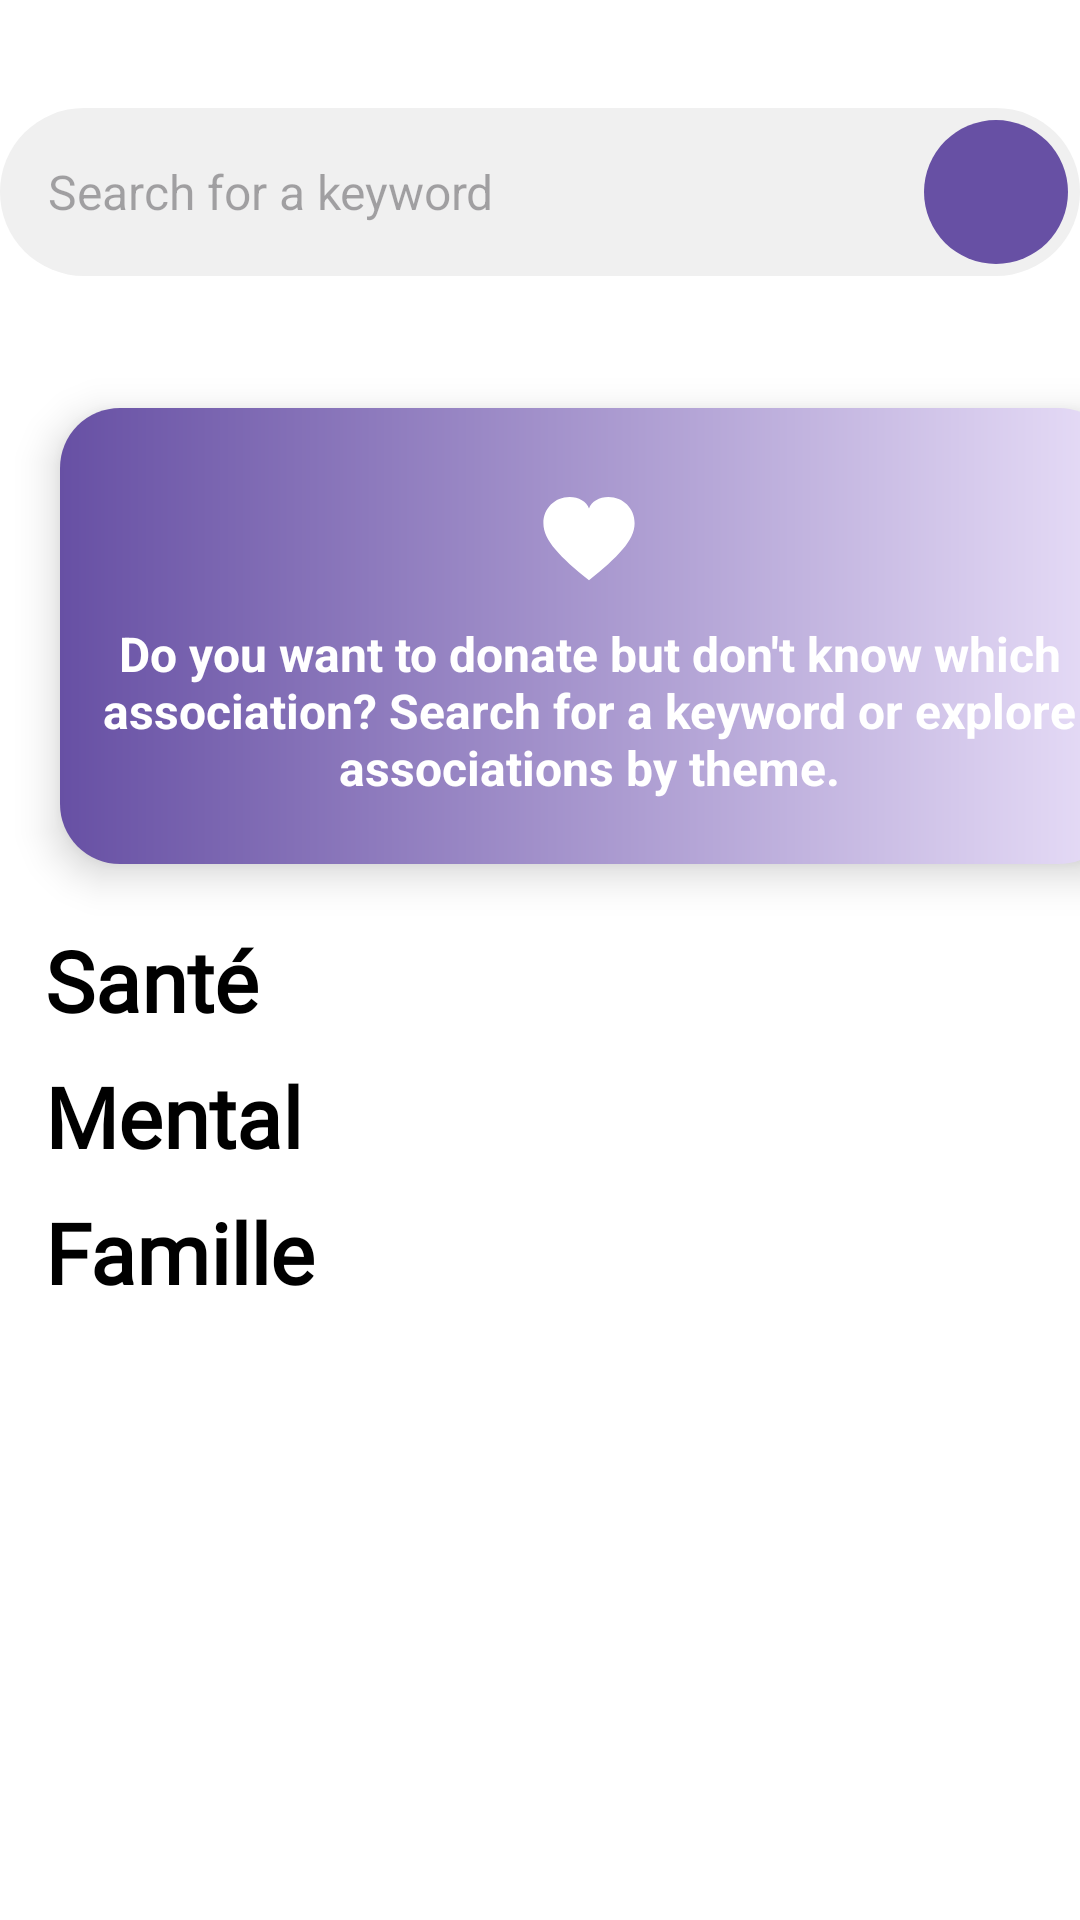

Where icons sit on this 1080*1920 app screen, as detection(x1, y1, x2, y2):
Icône de cœur: detection(543, 497, 635, 580)
